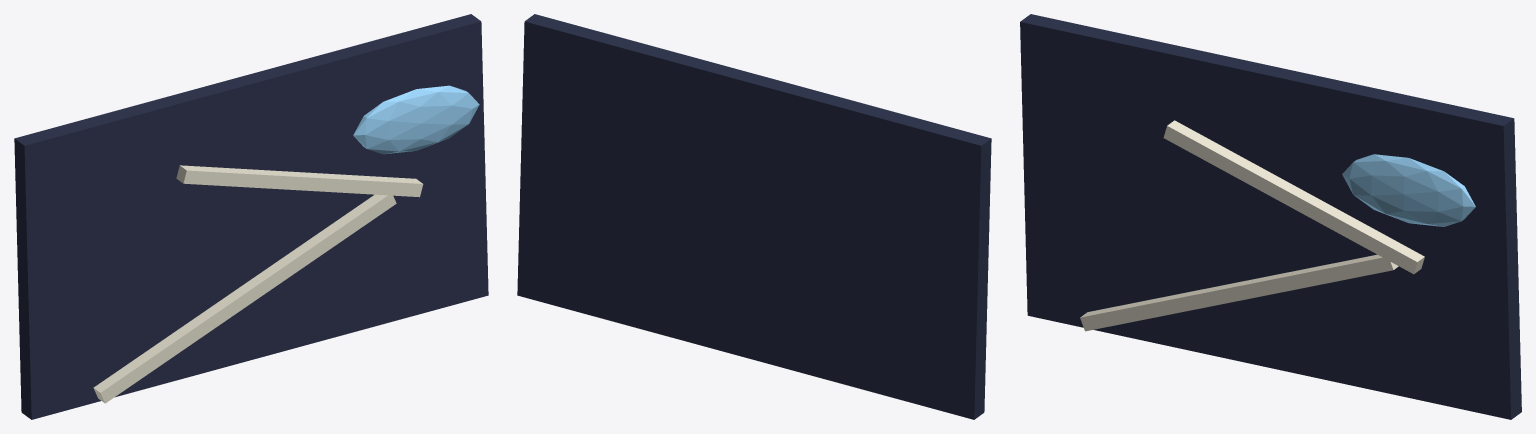
Rendered from 01_weathering_wear_overlay_1.glb.
3 renders of one model, left to right at view 1: azimuth 30°, elevation 25°; view 2: azimuth 150°, elevation 25°; view 3: azimuth 330°, elevation 25°, orthographic. The views are drawn at different scales.
Visible parts, largest first — view 1: wear_plate, scratch_a, rust_or_moss_spot, scratch_b; view 2: wear_plate; view 3: wear_plate, rust_or_moss_spot, scratch_b, scratch_a.
Boxes of the visible parts, bbox=[...] form: wear_plate: bbox=[14, 14, 488, 419]; scratch_a: bbox=[93, 194, 396, 403]; rust_or_moss_spot: bbox=[353, 85, 479, 154]; scratch_b: bbox=[176, 165, 423, 197]; wear_plate: bbox=[517, 14, 991, 419]; wear_plate: bbox=[1020, 14, 1521, 419]; rust_or_moss_spot: bbox=[1342, 154, 1475, 226]; scratch_b: bbox=[1163, 120, 1424, 274]; scratch_a: bbox=[1080, 254, 1398, 331].
Bounding box in the file's own units: 1.32 × 0.7849 × 0.134.
